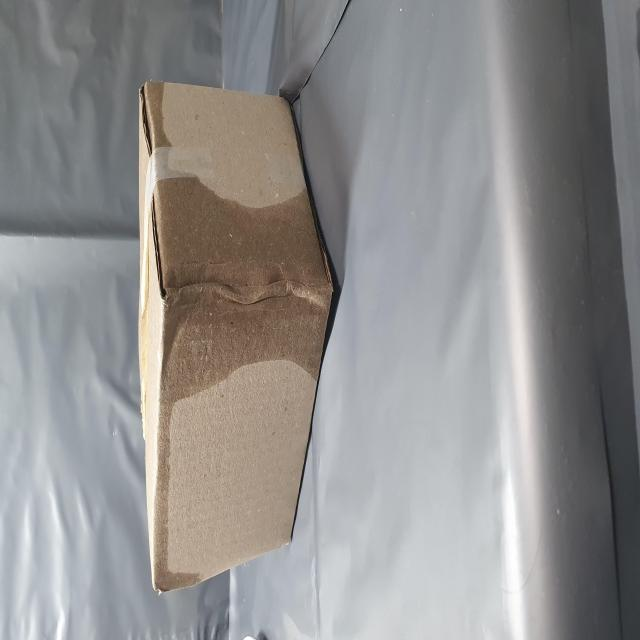wet: (105, 268, 258, 592)
